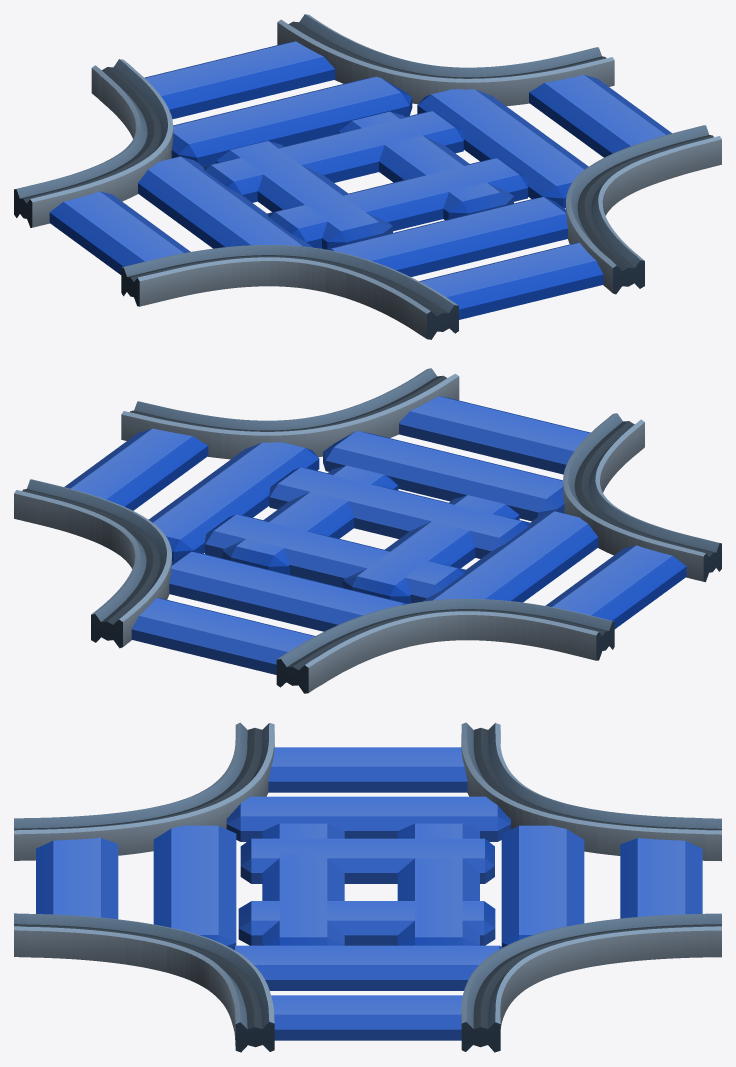
Rendered from 4Br-ArtiRay.fbx.
3 renders of one model, top to bottom at view 1: azimuth 30°, elevation 25°; view 2: azimuth 150°, elevation 25°; view 3: azimuth 270°, elevation 25°, orthographic. The views are drawn at different scales.
Visible parts, largest first — view 1: 4br-Arti; view 2: 4br-Arti; view 3: 4br-Arti.
Boxes of the visible parts, <box> form: 4br-Arti: <box>14,14,721,339</box>; 4br-Arti: <box>14,368,721,693</box>; 4br-Arti: <box>14,722,721,1052</box>.
Bounding box in the file's own units: 400 × 19.17 × 400.
